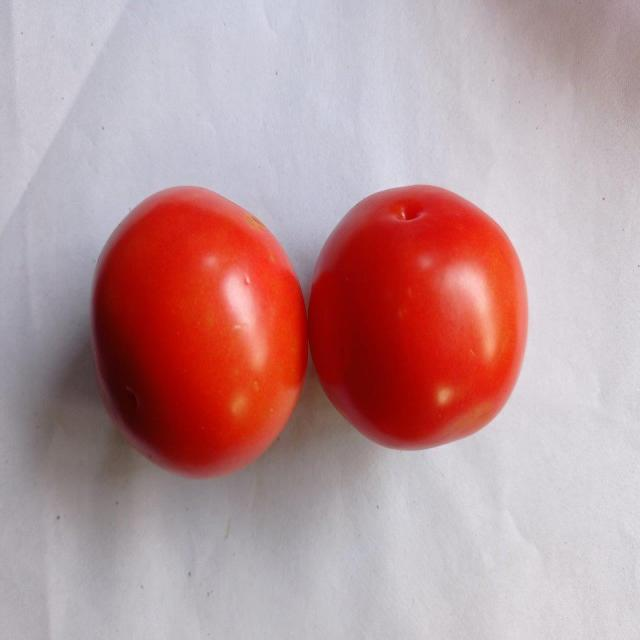Ripe: (89, 179, 309, 480), (310, 176, 531, 452)
